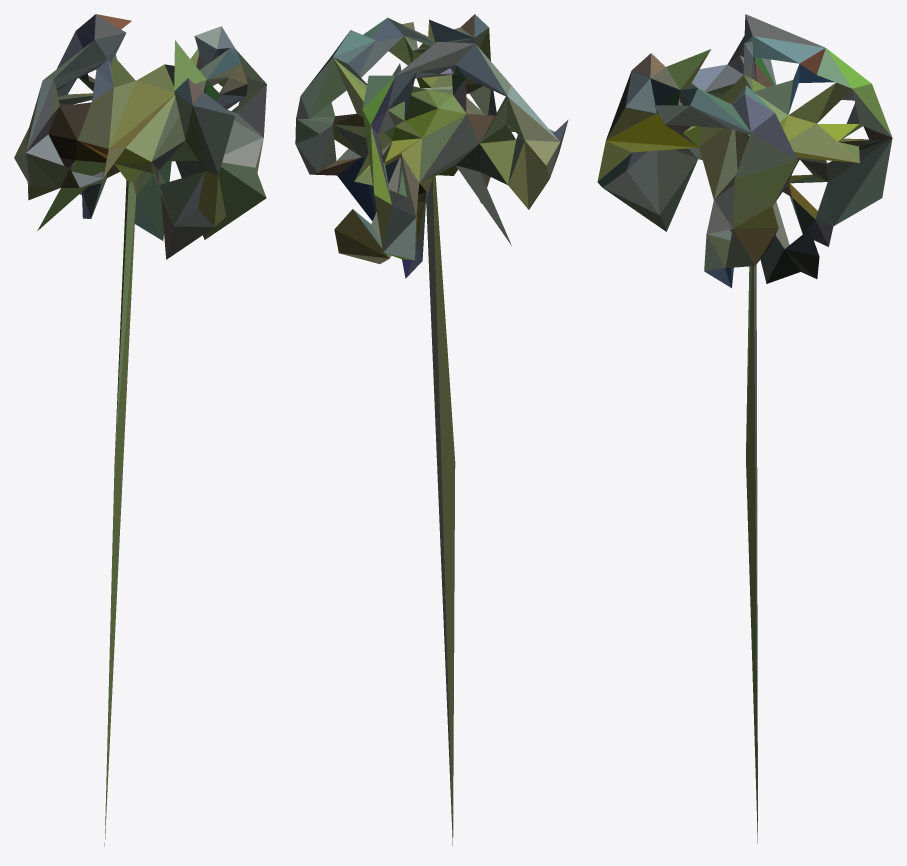
Rendered from dandelion.fbx.
3 renders of one model, left to right at view 1: azimuth 30°, elevation 25°; view 2: azimuth 150°, elevation 25°; view 3: azimuth 270°, elevation 25°, orthographic. The views are drawn at different scales.
Parts seen in each view (by area): view 1: Mesh_0; view 2: Mesh_0; view 3: Mesh_0.
Boxes of the visible parts, bbox=[...] form: Mesh_0: bbox=[14, 14, 266, 846]; Mesh_0: bbox=[295, 14, 568, 845]; Mesh_0: bbox=[597, 14, 892, 842].
Bounding box in the file's own units: 37.37 × 119 × 38.38.
1 material, 1 textured.
